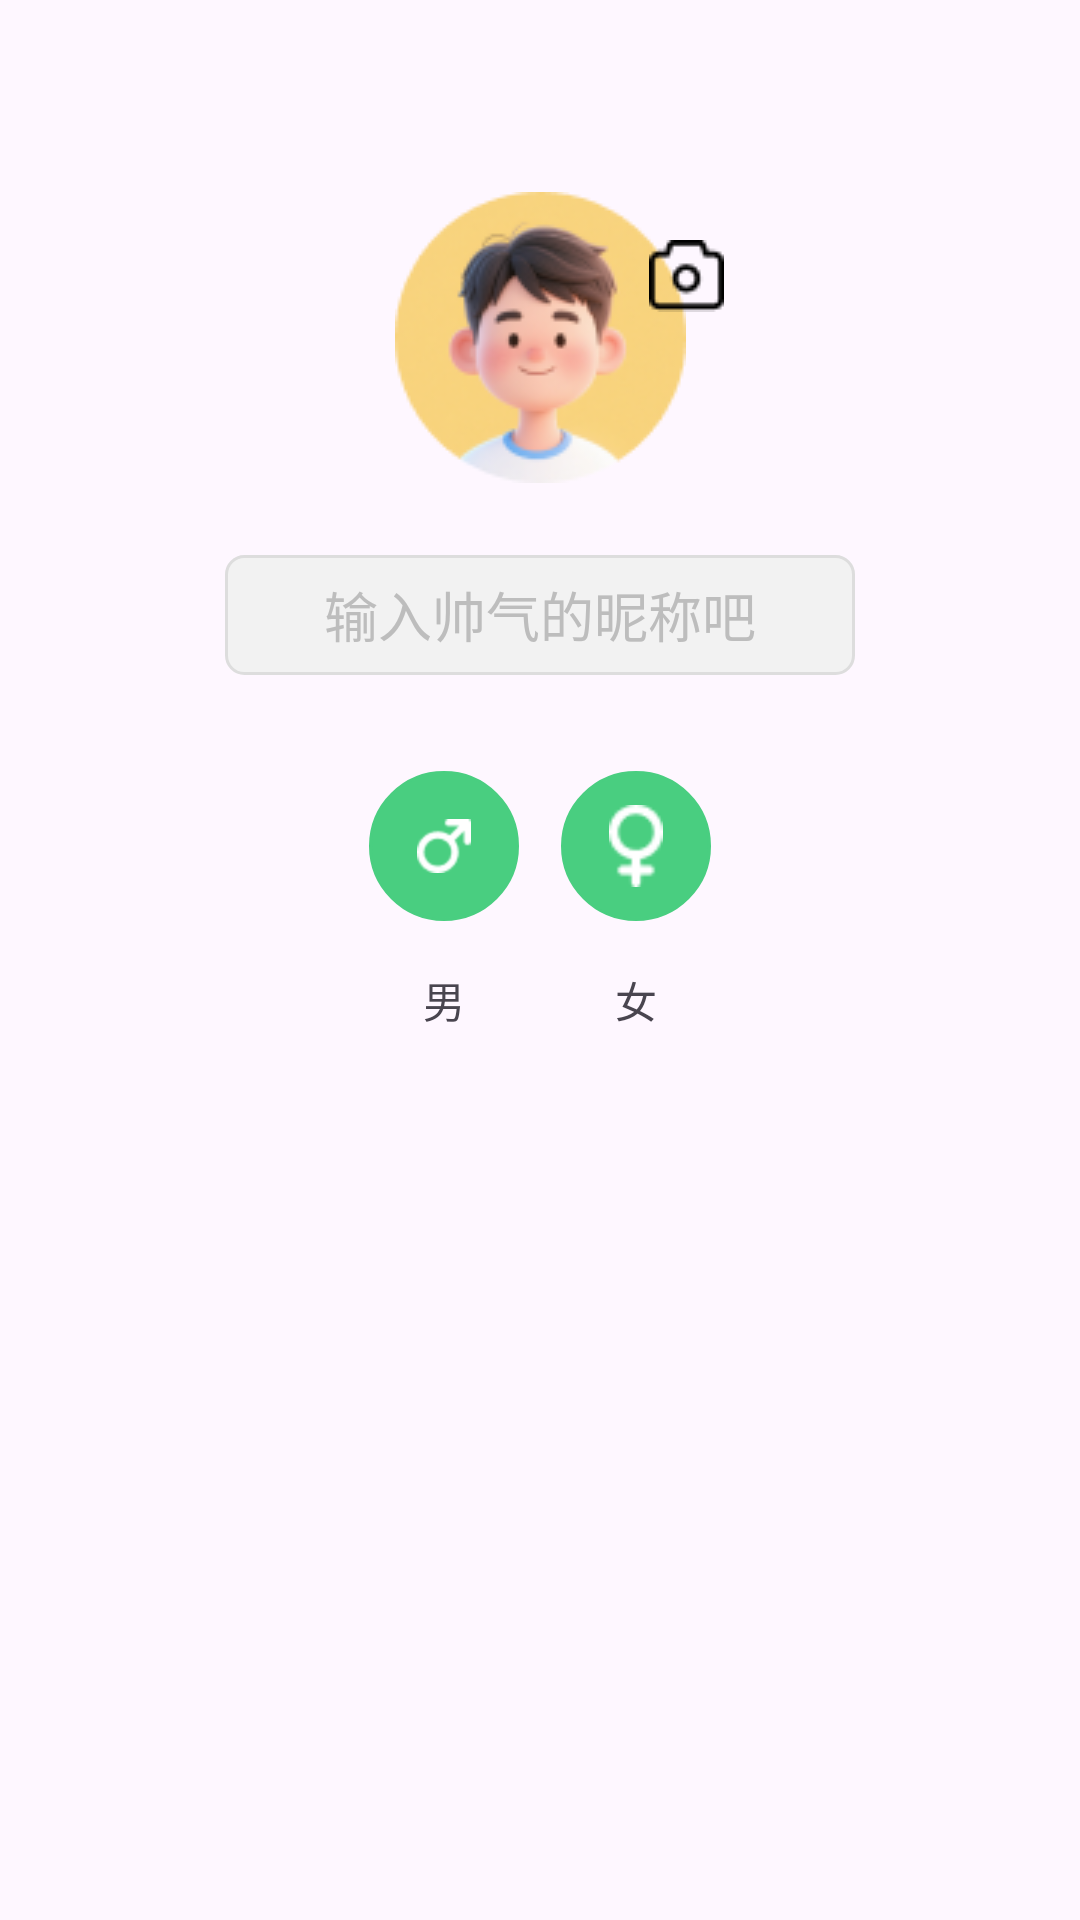

Icons on this 1080 × 1920 Android screen, each with the point to tap as (x=x, y=y):
boy: (x=444, y=846)
camera: (x=686, y=276)
girl: (x=636, y=846)
head: (x=540, y=329)
